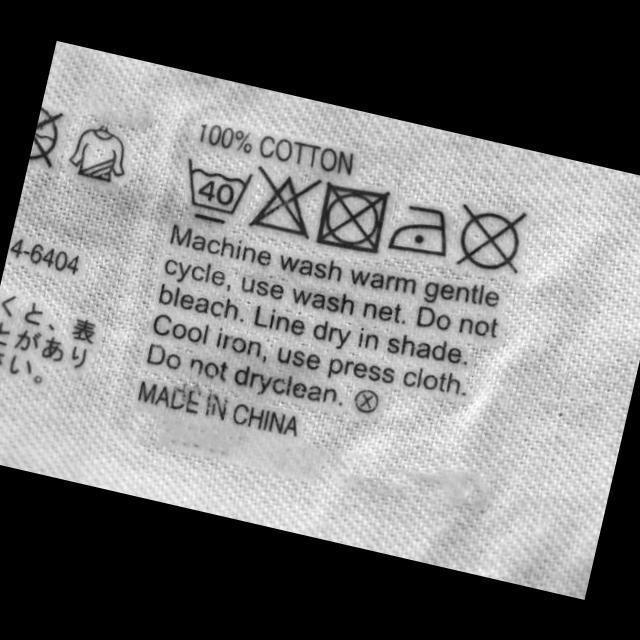40C: (167, 150, 259, 233)
DN_bleach: (238, 158, 325, 236)
DN_dry_clean: (444, 193, 536, 283), (27, 105, 70, 173)
DN_tumble_dry: (306, 172, 398, 262)
iron_low: (383, 196, 460, 265)
